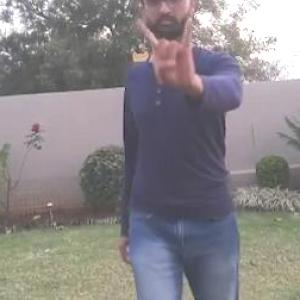takeoff-hand: (131, 10, 206, 94)
